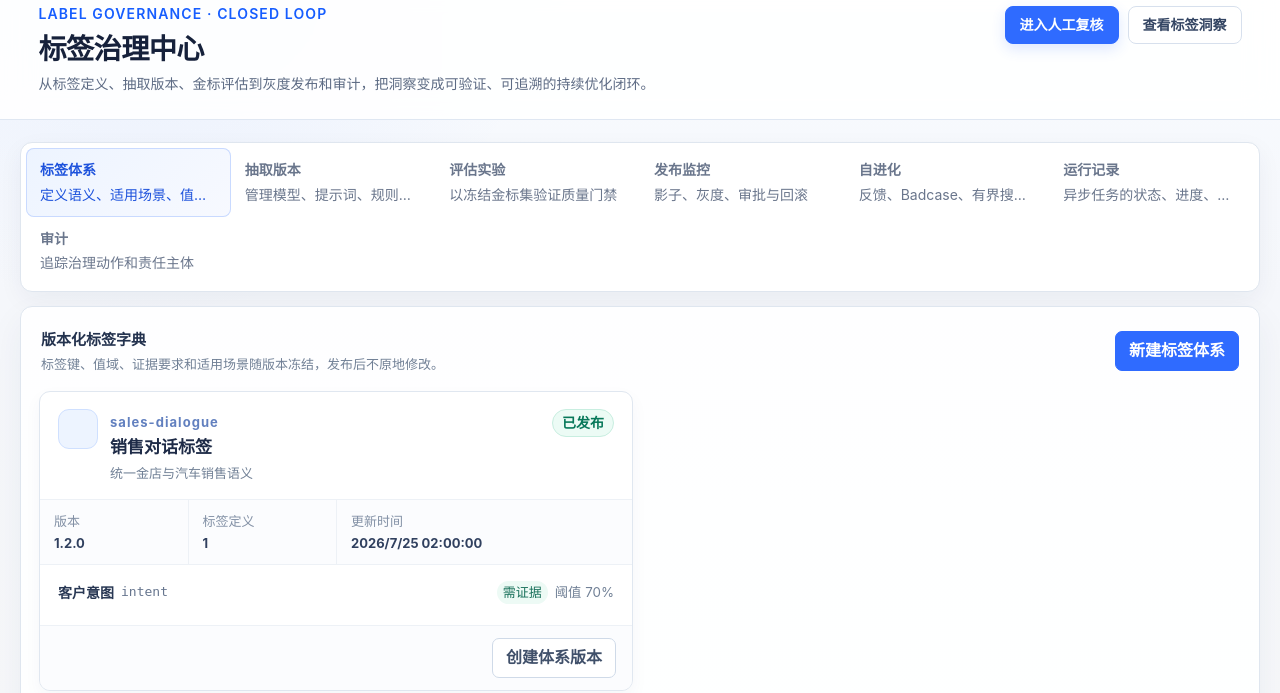
Test: TagGovernancePage › labels challenge-lane evaluations as non-deployable and routes to evolution
The image size is (1280, 693).
Expected: the heading "销售对话标签" is shown, [110,437,212,457]
Click the tab "评估实验 以冻结金标集验证质量门禁".
click(538, 183)  # box [435,148,640,217]
(page scrolled)
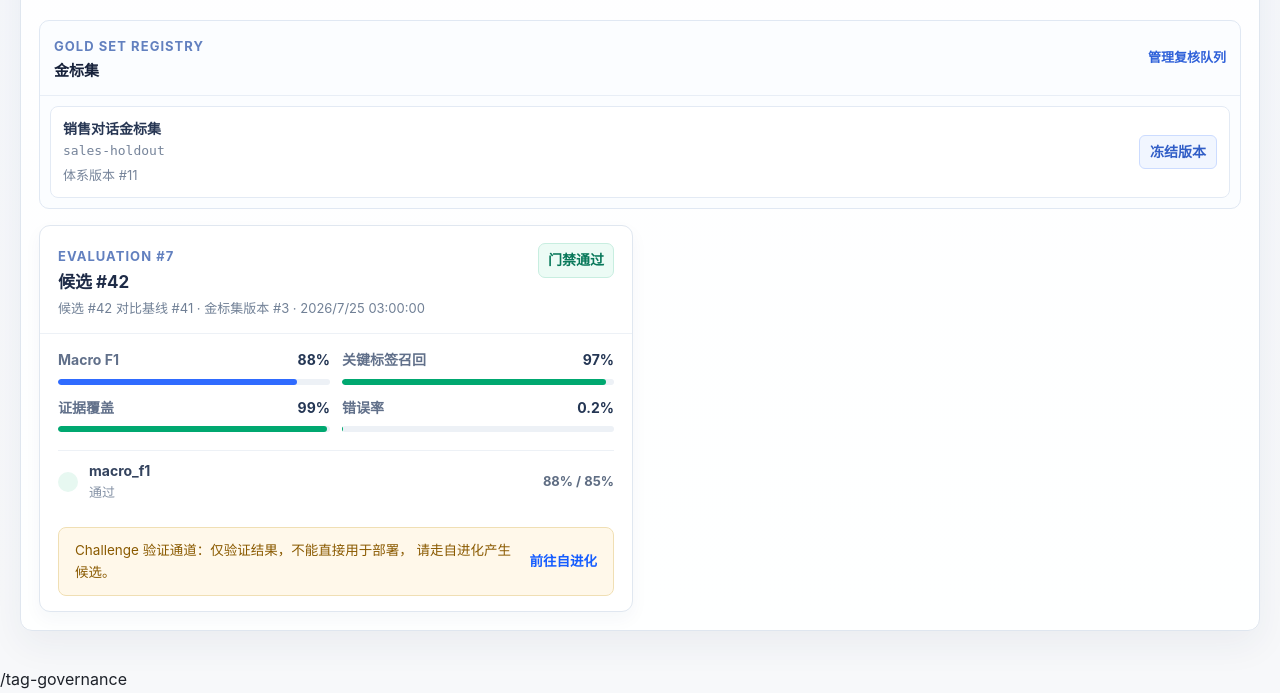
Expected: the text "Macro F1" is shown, [58,349,119,372]
Expected: the text "Challenge 验证通道：仅验证结果，不能直接用于部署， 请走自进化产生候选。" is shown, [75,540,522,584]
